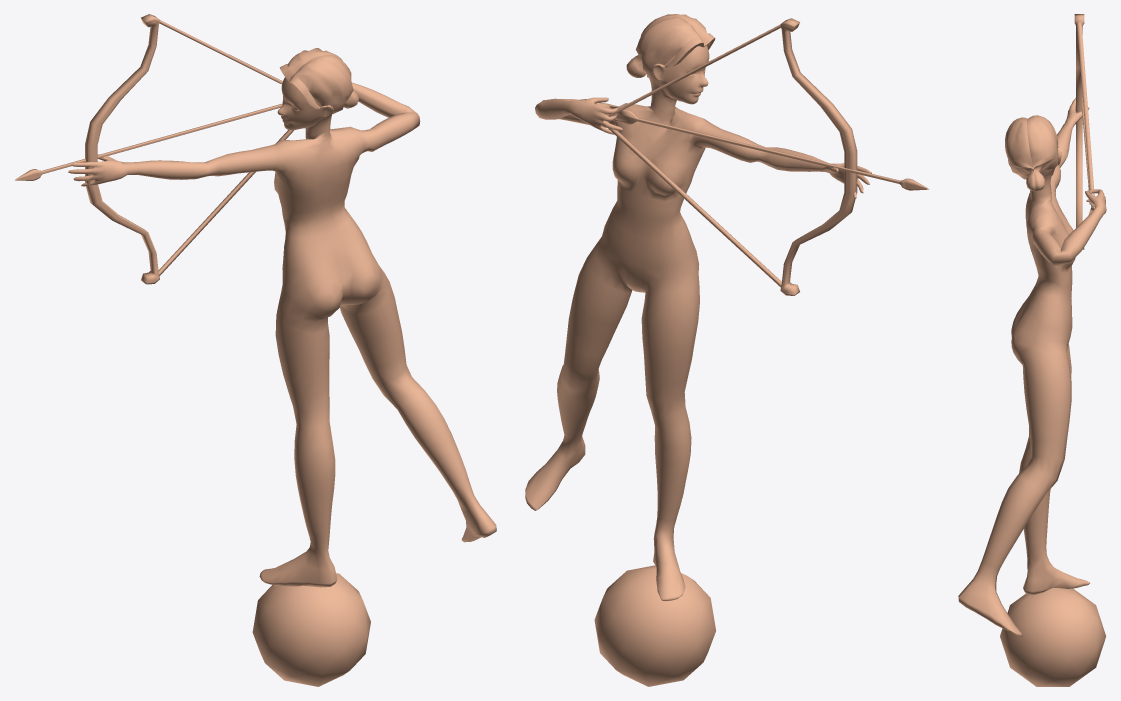
The model's file is diana.glb.
3 views of the same model, side by side, from view 1: azimuth 30°, elevation 25°; view 2: azimuth 150°, elevation 25°; view 3: azimuth 270°, elevation 25° (orthographic). The views are drawn at different scales.
Parts seen in each view (by area): view 1: Body2; view 2: Body2; view 3: Body2.
Boxes of the visible parts, <box> form: Body2: <box>15,14,496,686</box>; Body2: <box>525,14,929,686</box>; Body2: <box>958,14,1106,686</box>.
Size of the model in its own units: 1.46 by 2.22 by 0.4919.
